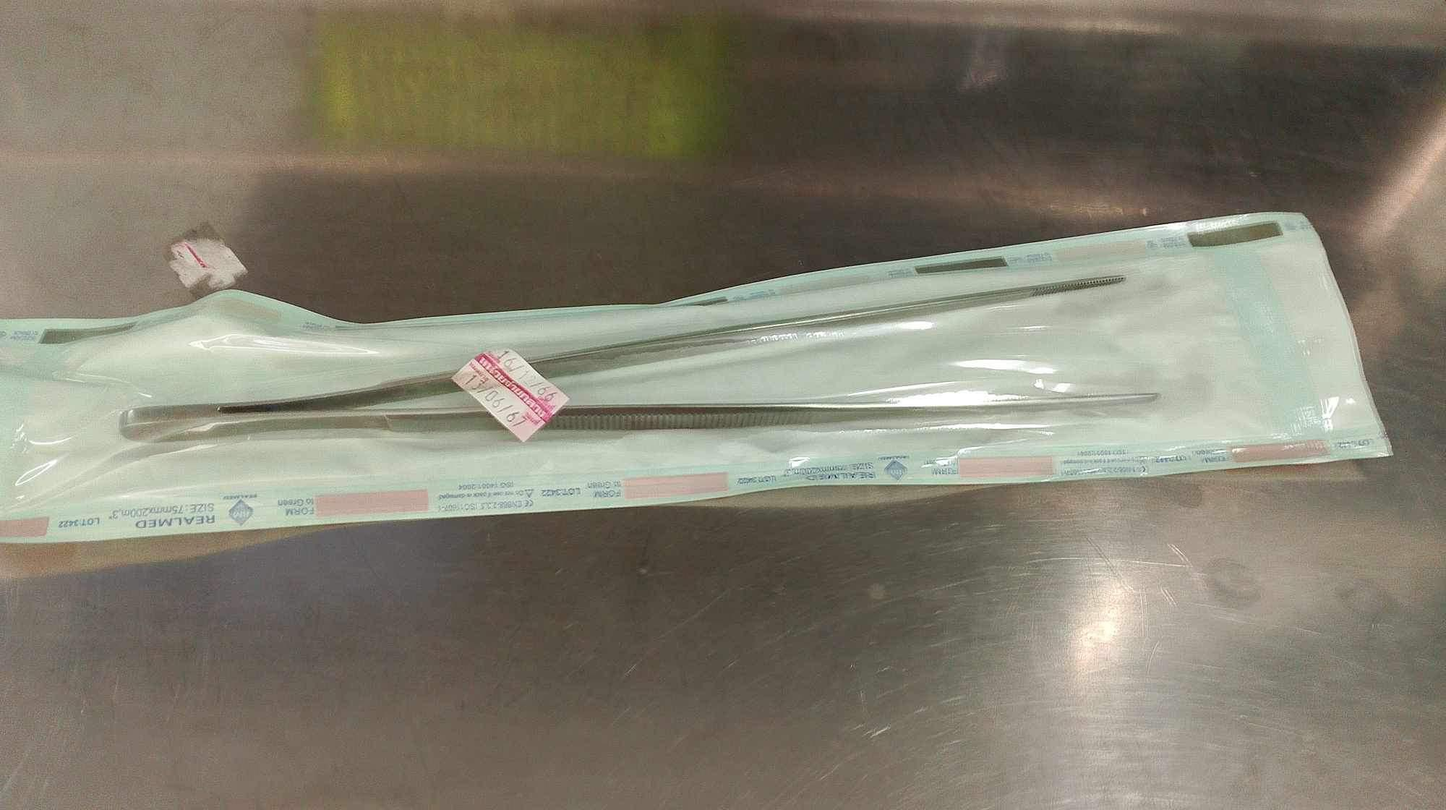General: (3, 208, 1395, 546)
